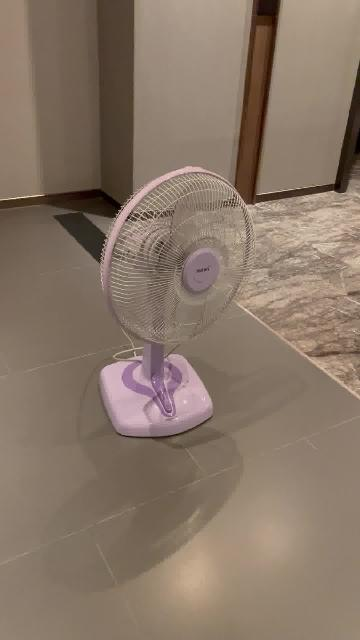Fan: (98, 166, 254, 439)
